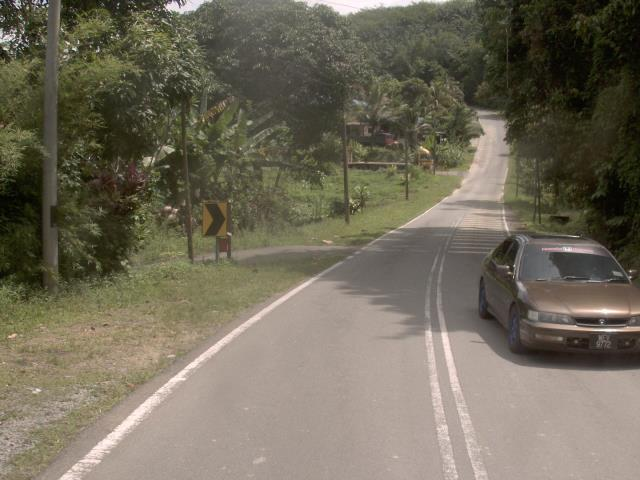traffic_sign: (193, 194, 236, 245)
